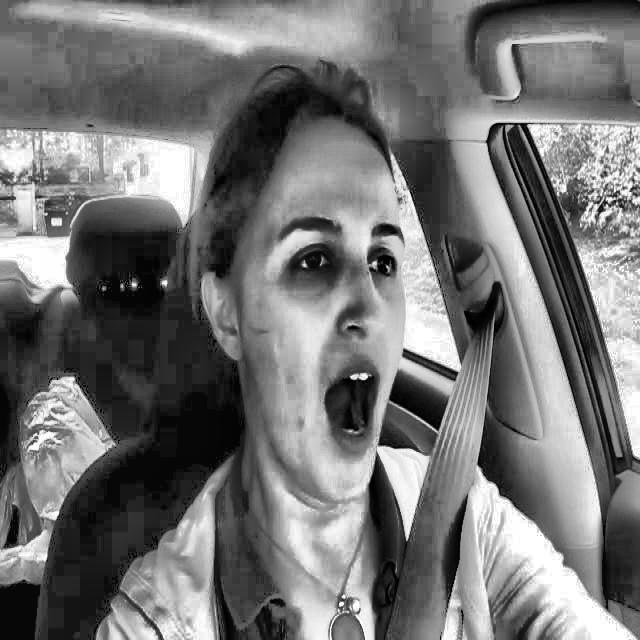open_eyes: (280, 229, 342, 285), (360, 241, 409, 287)
open_mouth: (312, 345, 392, 472)
